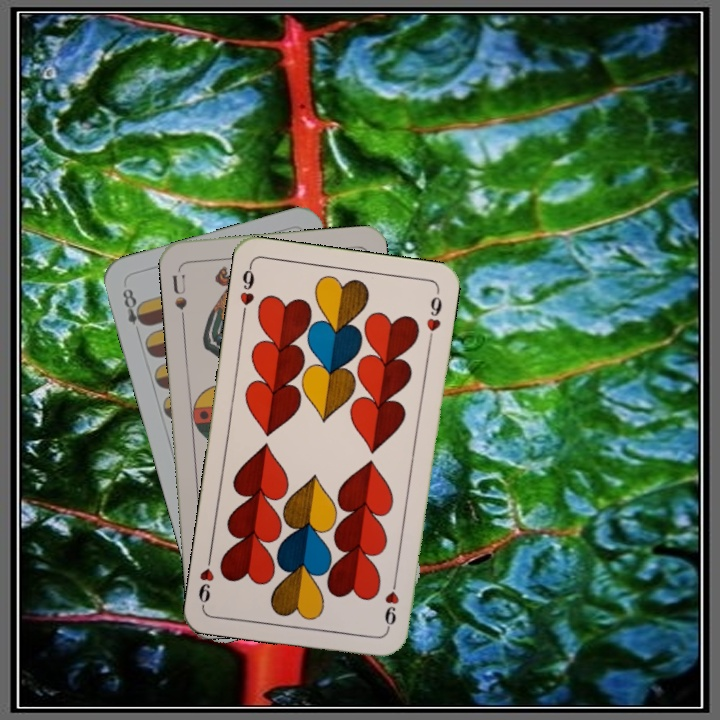E8: (118, 284, 150, 339)
H9: (235, 261, 257, 320), (380, 574, 402, 633)
SU: (168, 270, 189, 324)
